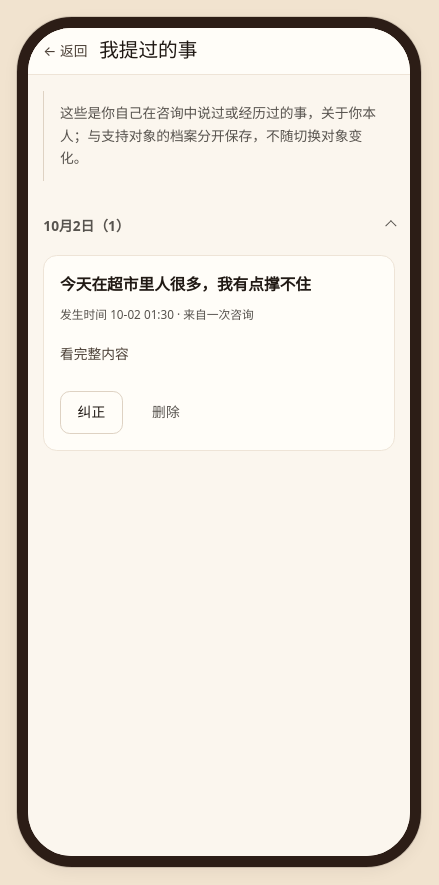
Test: 记忆页 · 纠正 › P0 提交失败保留已填内容，不清空重来
Expected: the text "今天在超市里人很多，我有点撑不住" is shown, x1=60 y1=273 x2=311 y2=295
Click the button "纠正".
click(91, 413)  # box x1=60 y1=391 x2=123 y2=434
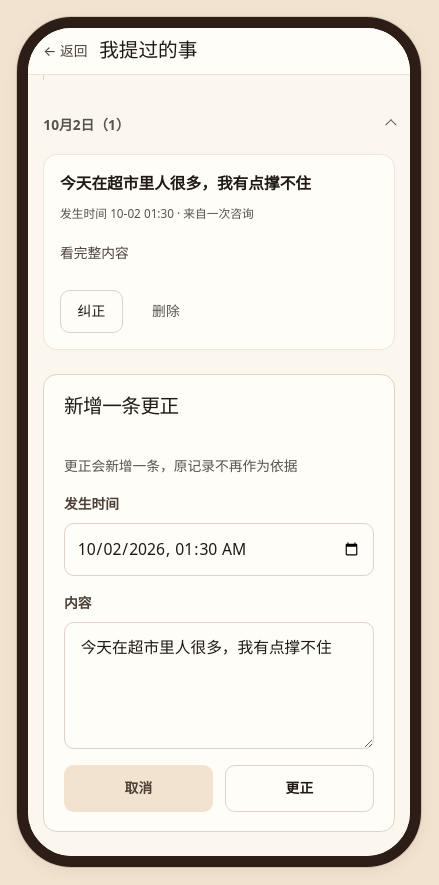
Replace the text in the text box labelled "内容" with "改了一半" at {"x": 219, "y": 685}, box x1=64 y1=622 x2=374 y2=749
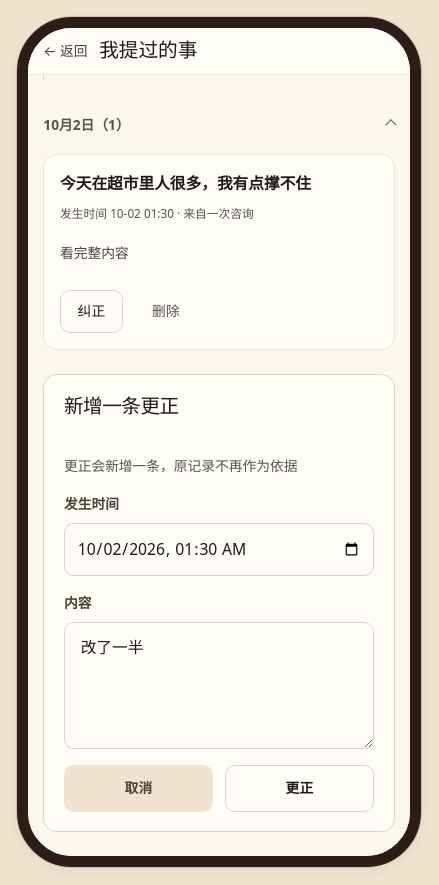
Click the button "更正".
click(300, 788)  # box x1=225 y1=765 x2=374 y2=812
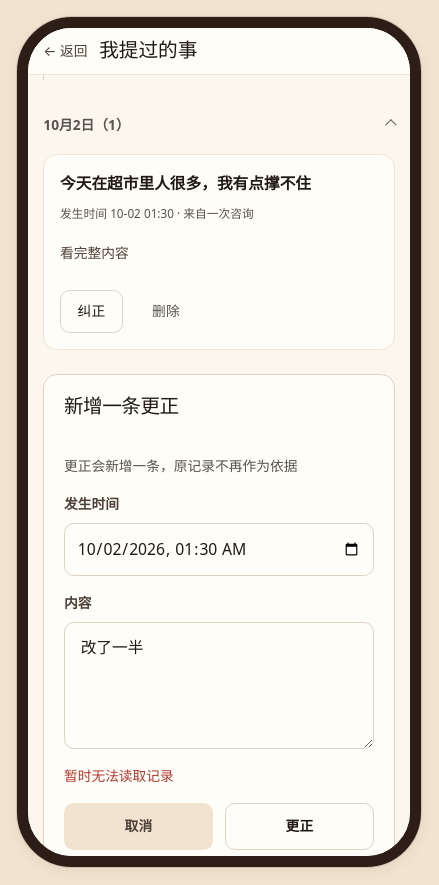
Expected: the text "暂时无法读取记录" is shown, x1=64 y1=766 x2=174 y2=785
